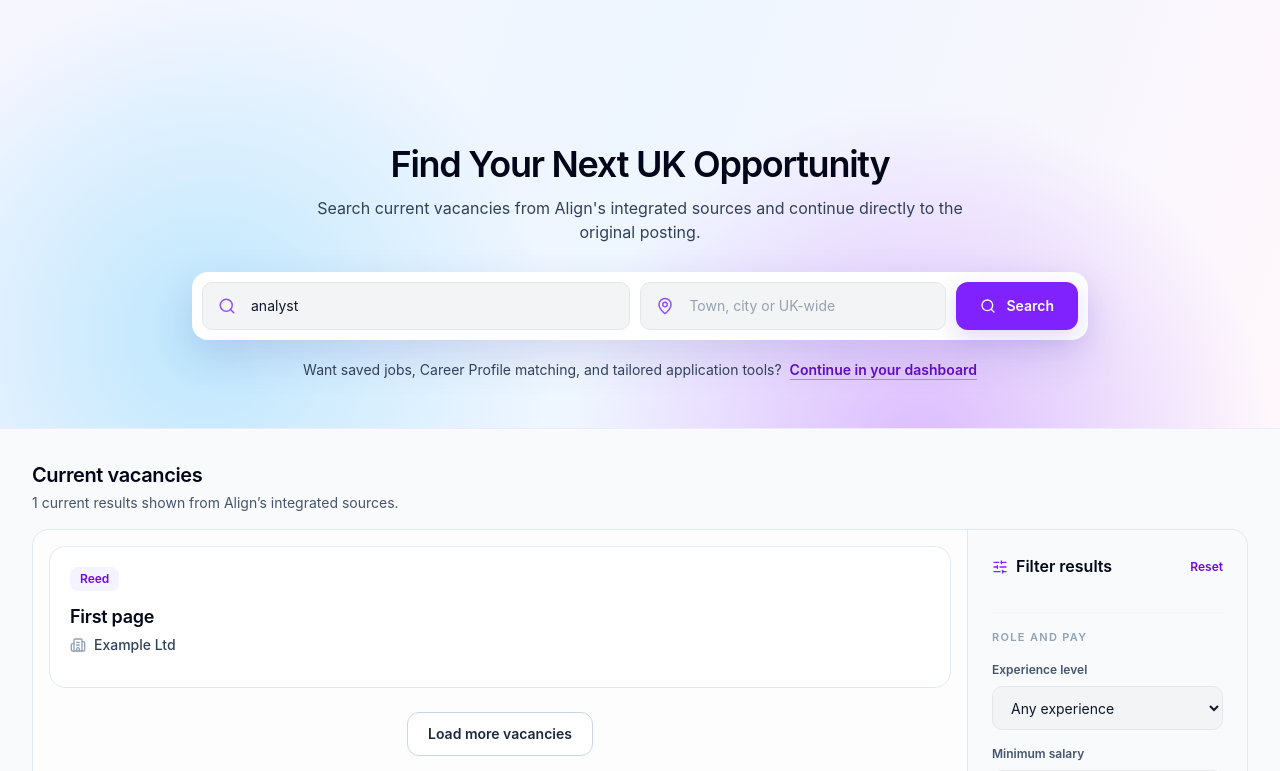
Test: public Jobs Redis session lifecycle › recovers an expired continuation by restarting the same URL query on page one
Check: the heading "First page" is shown, box [70, 606, 154, 627]
Click the button "Load more vacancies".
click(500, 734)  # box [407, 712, 593, 756]
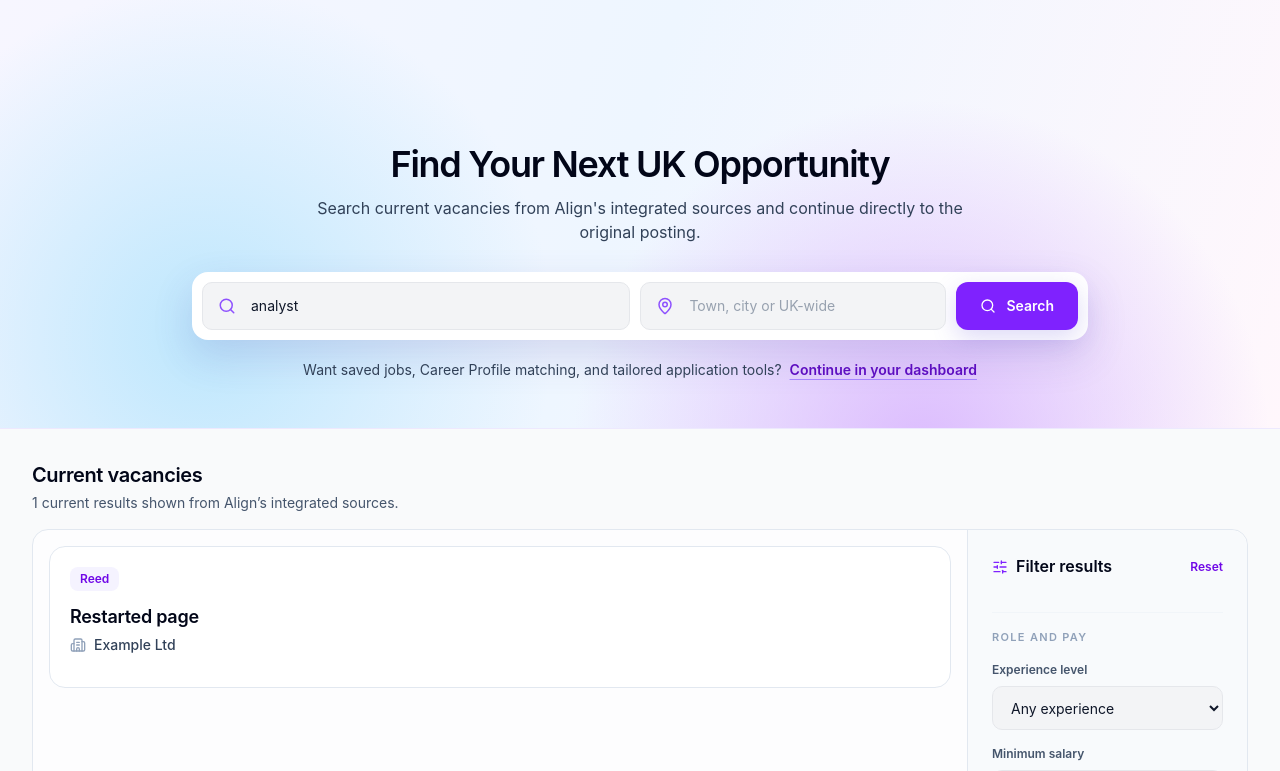
Check: the heading "Restarted page" is shown, box [70, 603, 199, 631]
